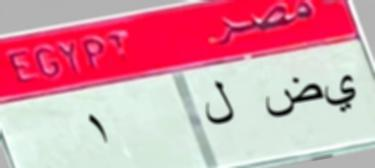1: (80, 107, 114, 148)
daad: (258, 73, 322, 120)
laam: (200, 74, 238, 129)
yaa: (324, 68, 358, 116)
